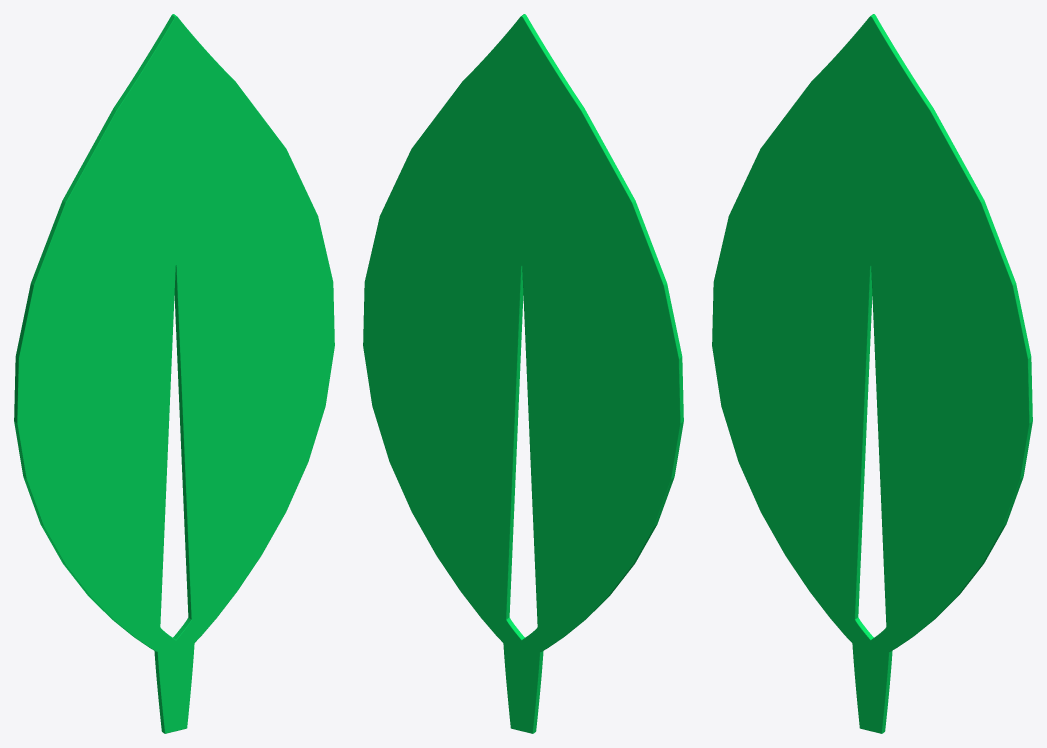
File: MongoDB.glb
3 renders of one model, left to right at view 1: azimuth 30°, elevation 25°; view 2: azimuth 150°, elevation 25°; view 3: azimuth 330°, elevation 25°, orthographic.
Bounding box in the file's own units: 5.99 × 12.87 × 0.11.
